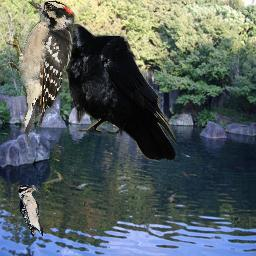Crow: (36, 22, 179, 163)
Woodpecker: (6, 1, 77, 145), (18, 185, 43, 237)
